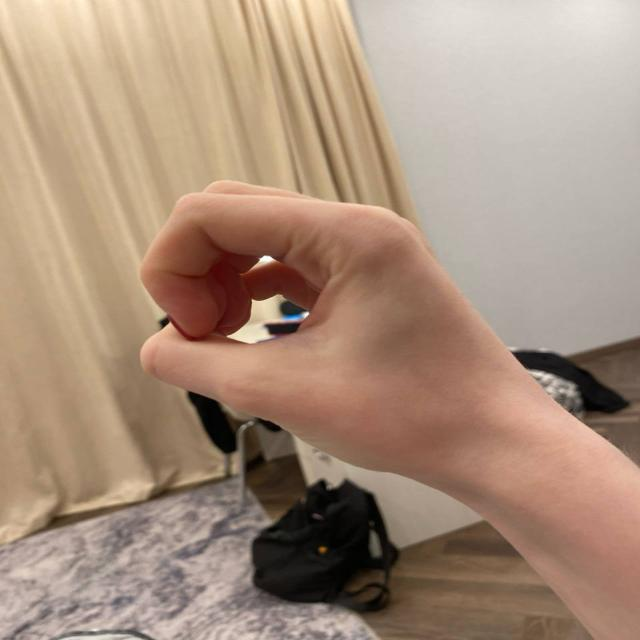e: (100, 153, 542, 525)
